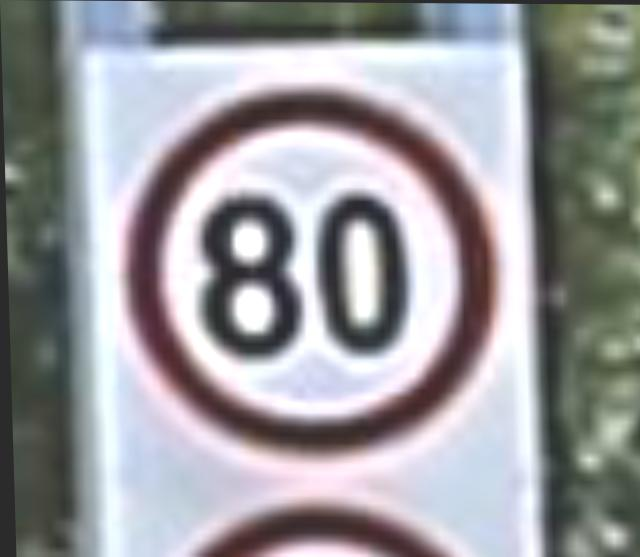limit80: (109, 83, 503, 461)
